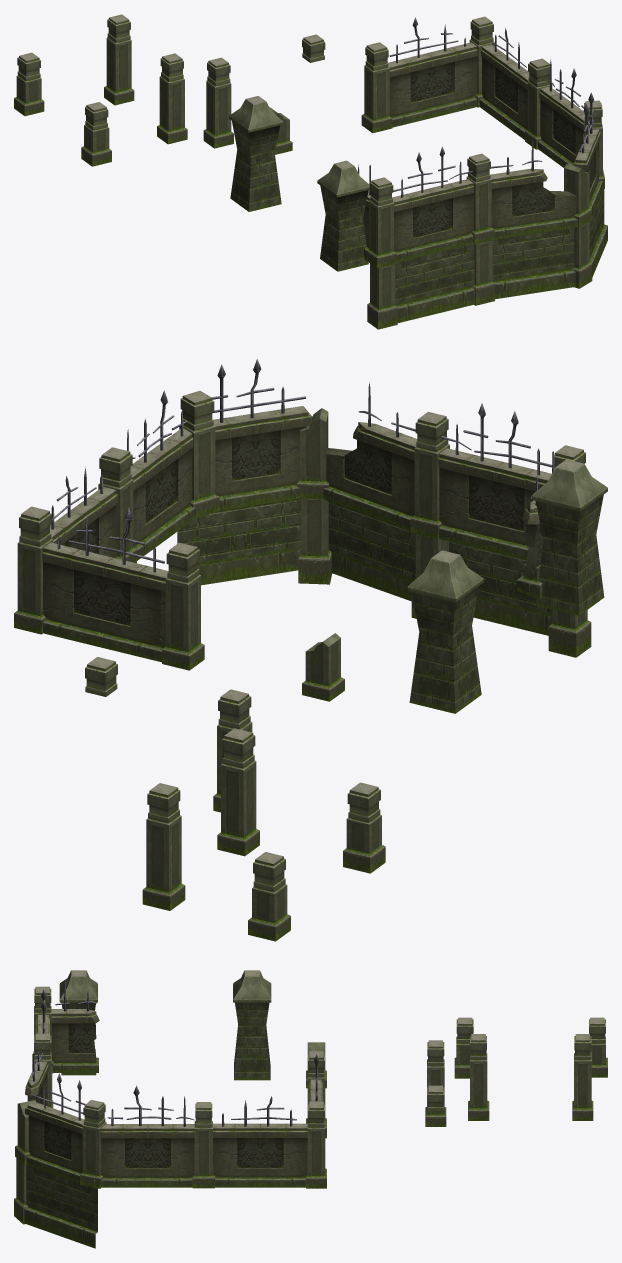
File: pingtai02_01.FBX
3 views of the same model, one above another, from view 1: azimuth 30°, elevation 25°; view 2: azimuth 150°, elevation 25°; view 3: azimuth 270°, elevation 25° (orthographic). The views are drawn at different scales.
Parts seen in each view (by area): view 1: pingtai02_01; view 2: pingtai02_01; view 3: pingtai02_01.
Part boxes in pixels (<box>): pingtai02_01: <box>14,14,607,329</box>; pingtai02_01: <box>14,359,607,941</box>; pingtai02_01: <box>14,970,607,1248</box>.
Size of the model in its own units: 1743 by 808 by 2750.
